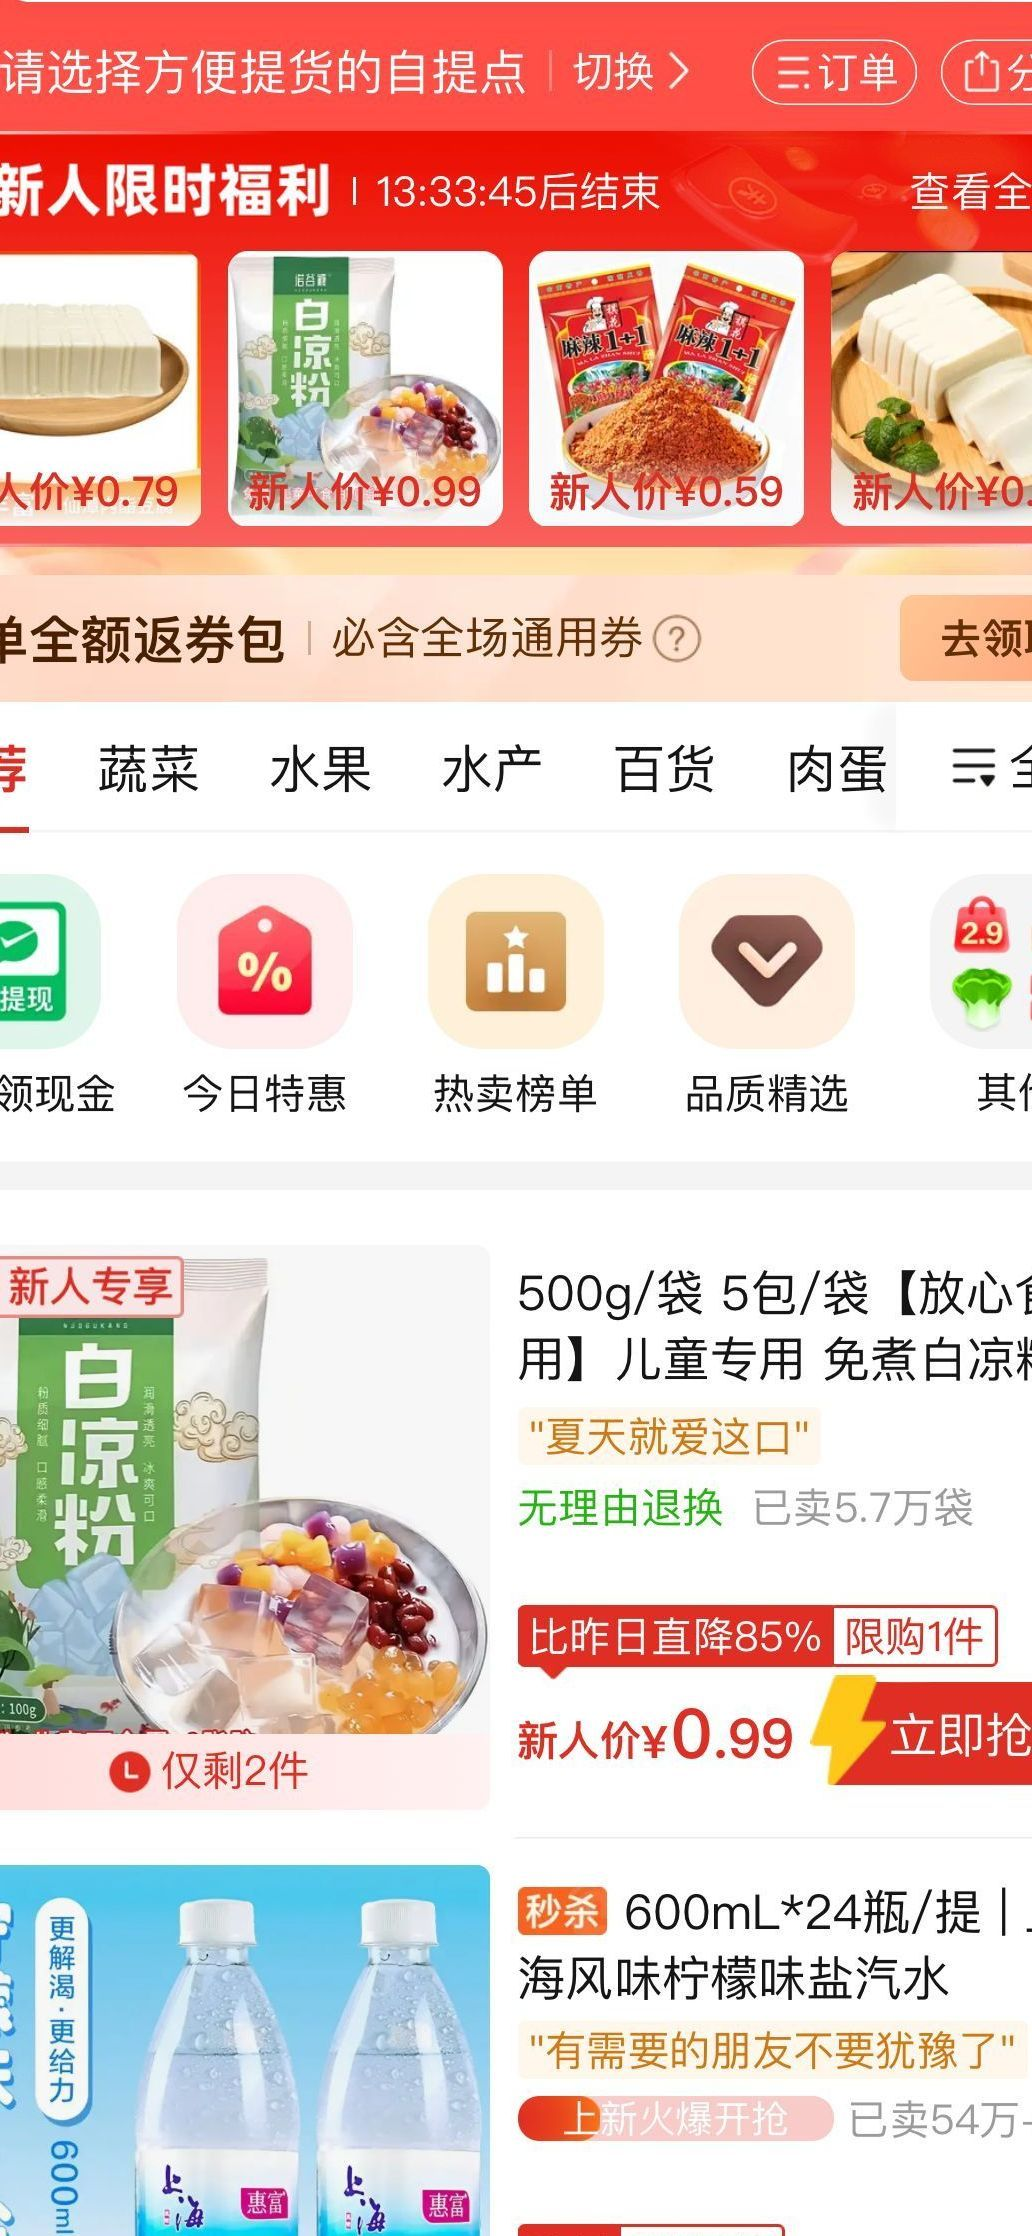item: (6, 1246, 1031, 1841), (6, 1868, 1026, 2225)
seckill: (1, 135, 1026, 569)
